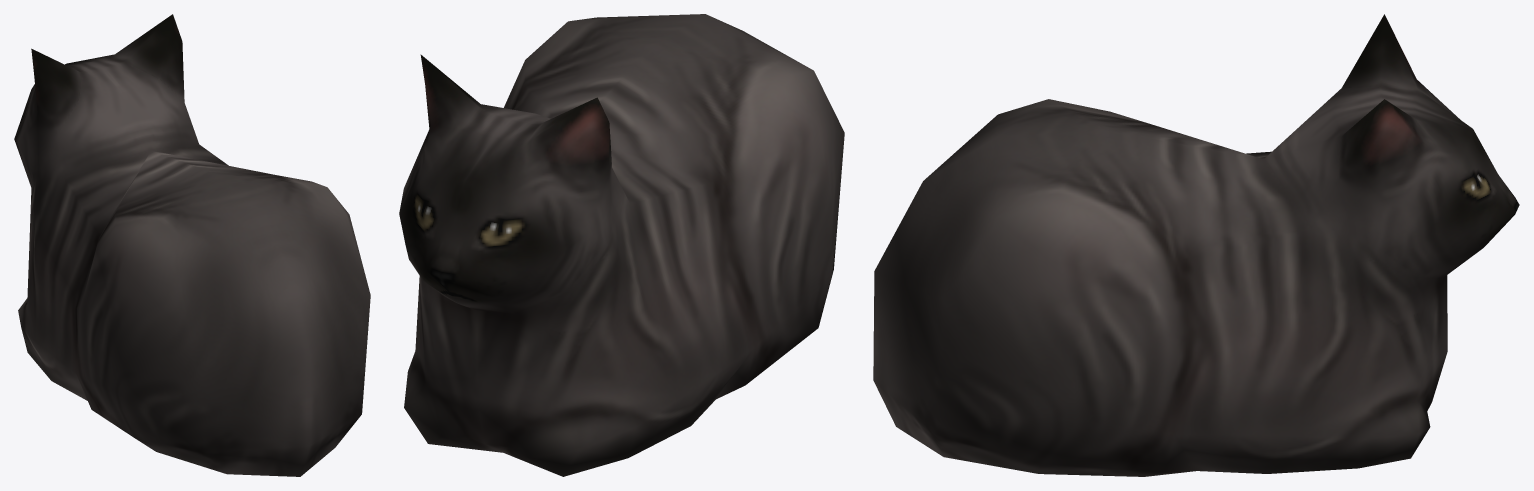
The model's file is CatLoafNaked256.fbx.
3 renders of one model, left to right at view 1: azimuth 30°, elevation 25°; view 2: azimuth 150°, elevation 25°; view 3: azimuth 270°, elevation 25°, orthographic. The views are drawn at different scales.
Visible parts, largest first — view 1: CatLoafNaked256; view 2: CatLoafNaked256; view 3: CatLoafNaked256.
Boxes of the visible parts, x1,y1,x2,y2 form: CatLoafNaked256: (14, 14, 370, 476); CatLoafNaked256: (399, 14, 844, 476); CatLoafNaked256: (873, 14, 1519, 476).
Bounding box in the file's own units: 0.2077 × 0.2561 × 0.3957.
